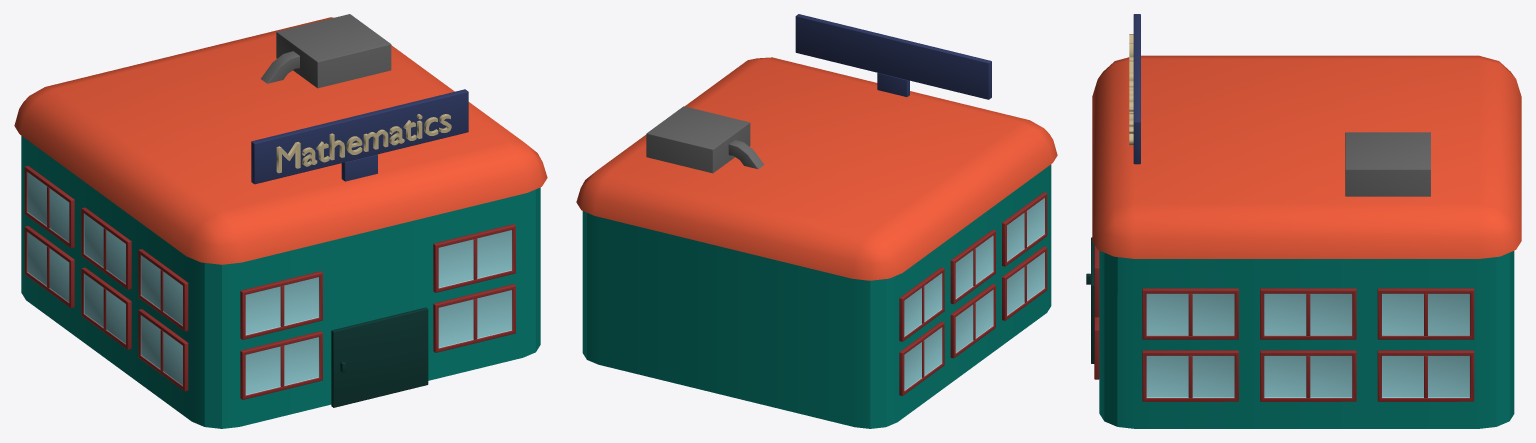
Rendered from GeografiaLevel1 (1).fbx.
The picture shows the model from 3 angles, left to right: view 1: azimuth 30°, elevation 25°; view 2: azimuth 150°, elevation 25°; view 3: azimuth 270°, elevation 25°; orthographic projection. The views are drawn at different scales.
Visible parts, largest first — view 1: Predio_matematica_nivel_01, Janelas_predio_01, Texto_Mathematics_nivel_01; view 2: Predio_matematica_nivel_01, Janelas_predio_01; view 3: Predio_matematica_nivel_01, Janelas_predio_01, Texto_Mathematics_nivel_01.
Part boxes in pixels (<box>): Predio_matematica_nivel_01: <box>14,17,547,428</box>; Janelas_predio_01: <box>24,14,515,407</box>; Texto_Mathematics_nivel_01: <box>276,114,451,173</box>; Predio_matematica_nivel_01: <box>576,57,1057,428</box>; Janelas_predio_01: <box>646,14,1047,395</box>; Predio_matematica_nivel_01: <box>1092,55,1521,428</box>; Janelas_predio_01: <box>1086,14,1474,401</box>; Texto_Mathematics_nivel_01: <box>1129,34,1133,145</box>.
Size of the model in its own units: 1025 by 725 by 1048.
